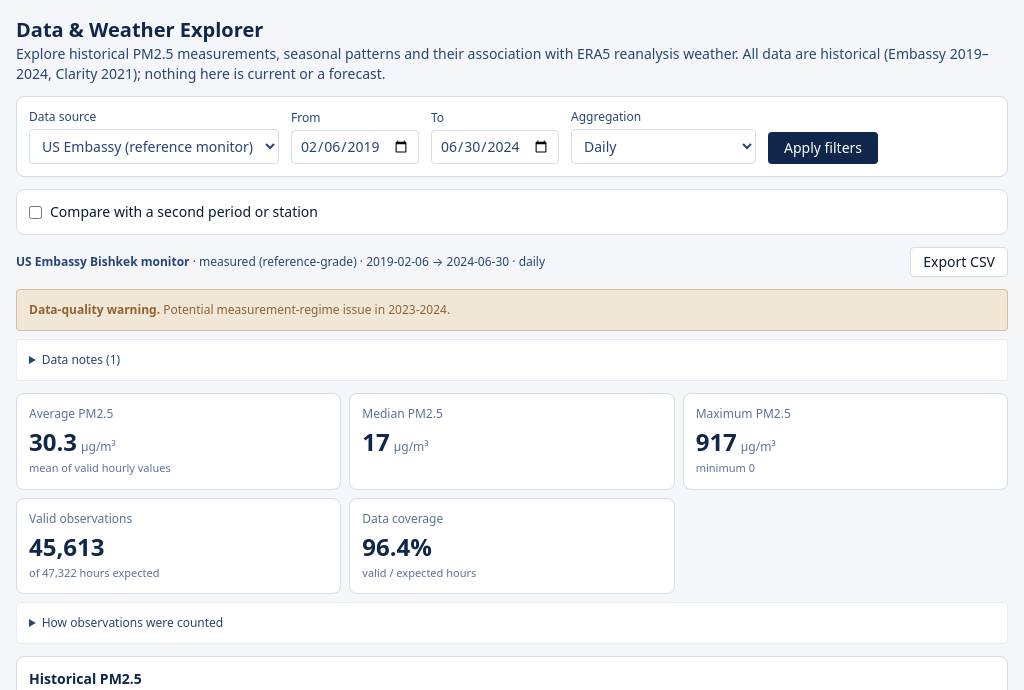
Test: Data & Weather Explorer page › blocks hourly requests longer than 120 days and explains why
This screenshot has width=1024, height=690.
Expected: the element named "Summary" is shown, [16,393,1008,644]
Select "Hourly (max 120 days)" in the dropdown labelled "Aggregation" at (664, 146), box [571,129,756,164]
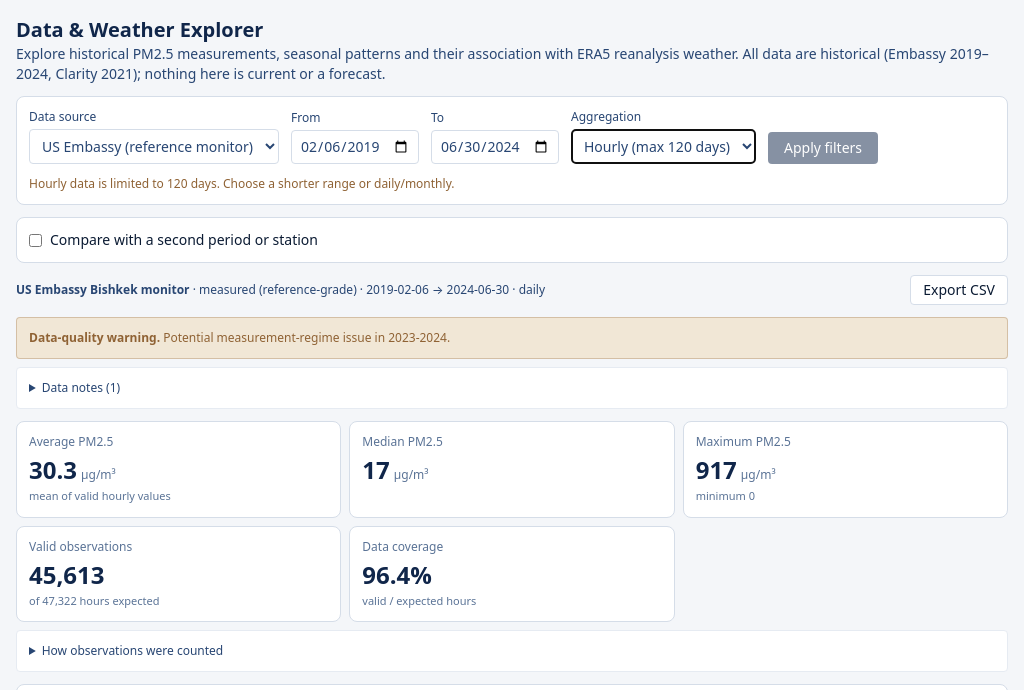
Now the button "Apply filters" is disabled, box [768,132,878,164]
Now the text "limited to 120 days" is shown, box [29,175,454,192]
Type "2022-01-01" into the date field named "Start date".
click(355, 147); type("2022-01-01")  # box [291,130,419,164]
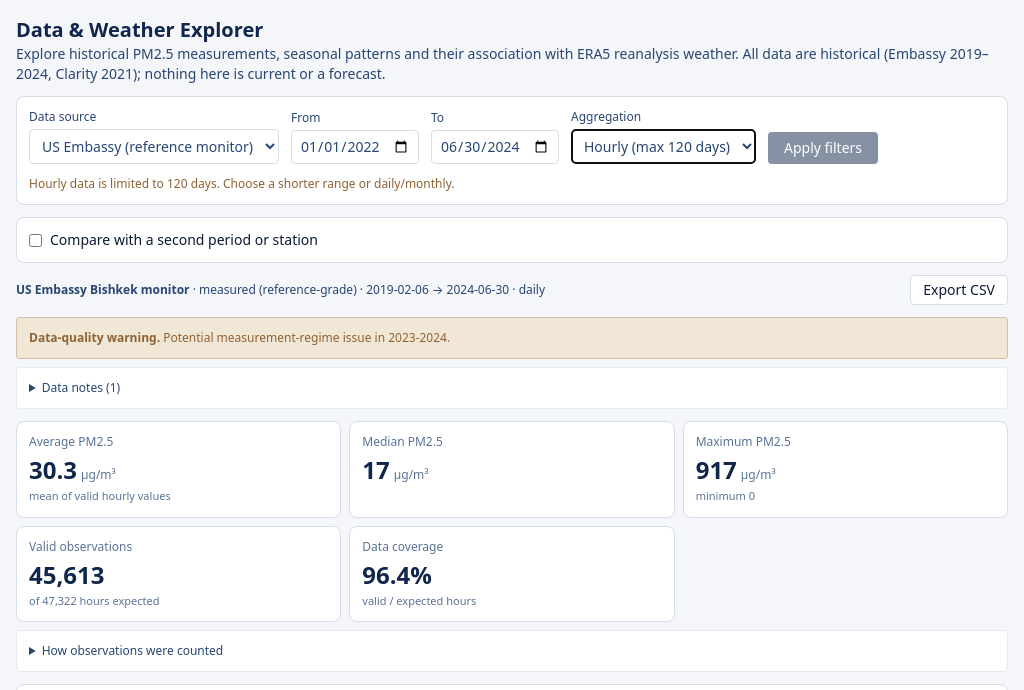
Type "2022-02-01" into the date field named "End date".
click(495, 147); type("2022-02-01")  # box [431,130,559,164]
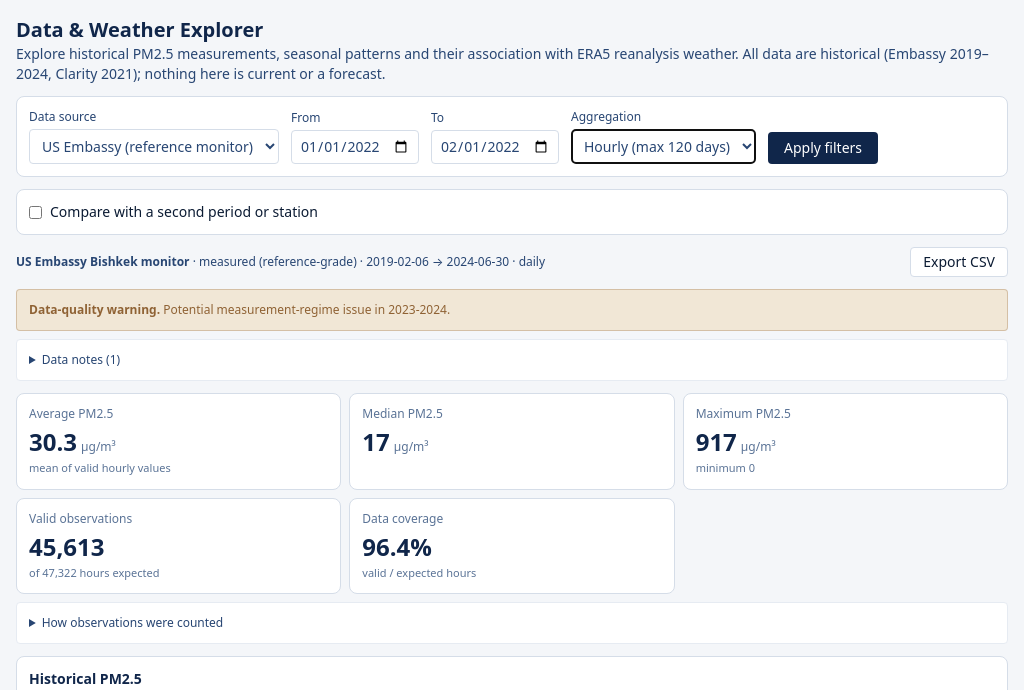
Now the button "Apply filters" is enabled, box [768,132,878,164]
